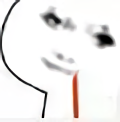dragon: (39, 9, 115, 78)
